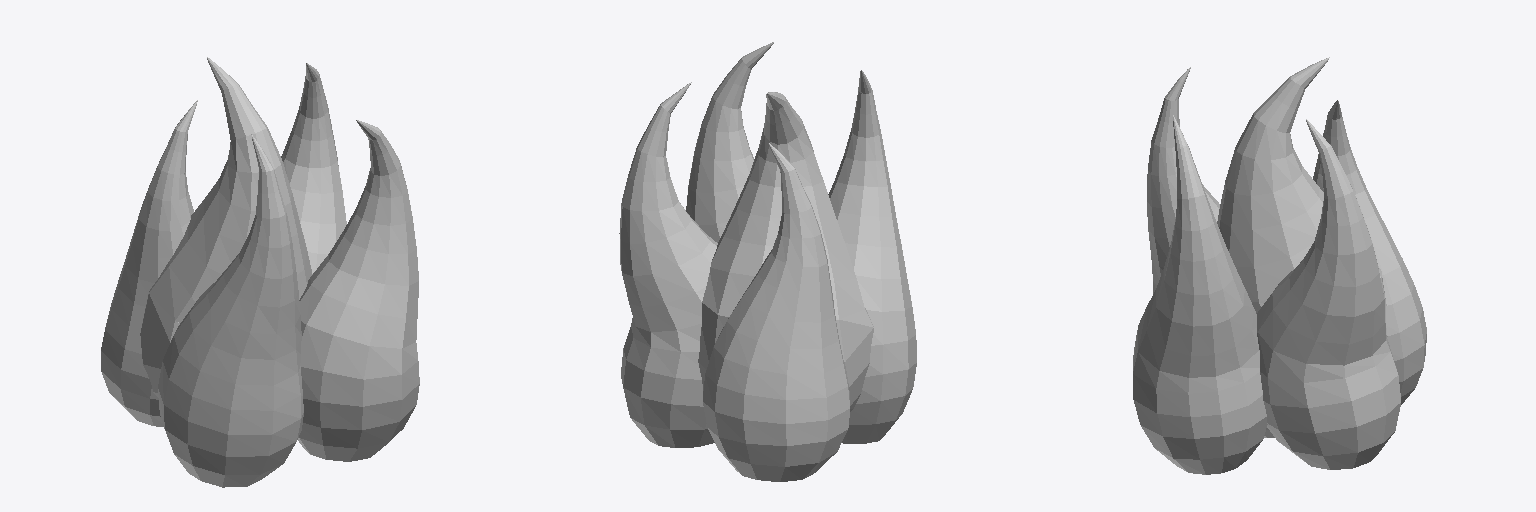
The model's file is fire_000039.obj.
3 views of the same model, side by side, from view 1: azimuth 30°, elevation 25°; view 2: azimuth 150°, elevation 25°; view 3: azimuth 270°, elevation 25° (orthographic).
Parts seen in each view (by area): view 1: flame_NurbsPath.015; view 2: flame_NurbsPath.015; view 3: flame_NurbsPath.015.
Boxes of the visible parts, <box> form: flame_NurbsPath.015: <box>101,57,419,487</box>; flame_NurbsPath.015: <box>619,42,916,481</box>; flame_NurbsPath.015: <box>1133,57,1426,474</box>.
Bounding box in the file's own units: 0.7407 × 1.14 × 0.811.